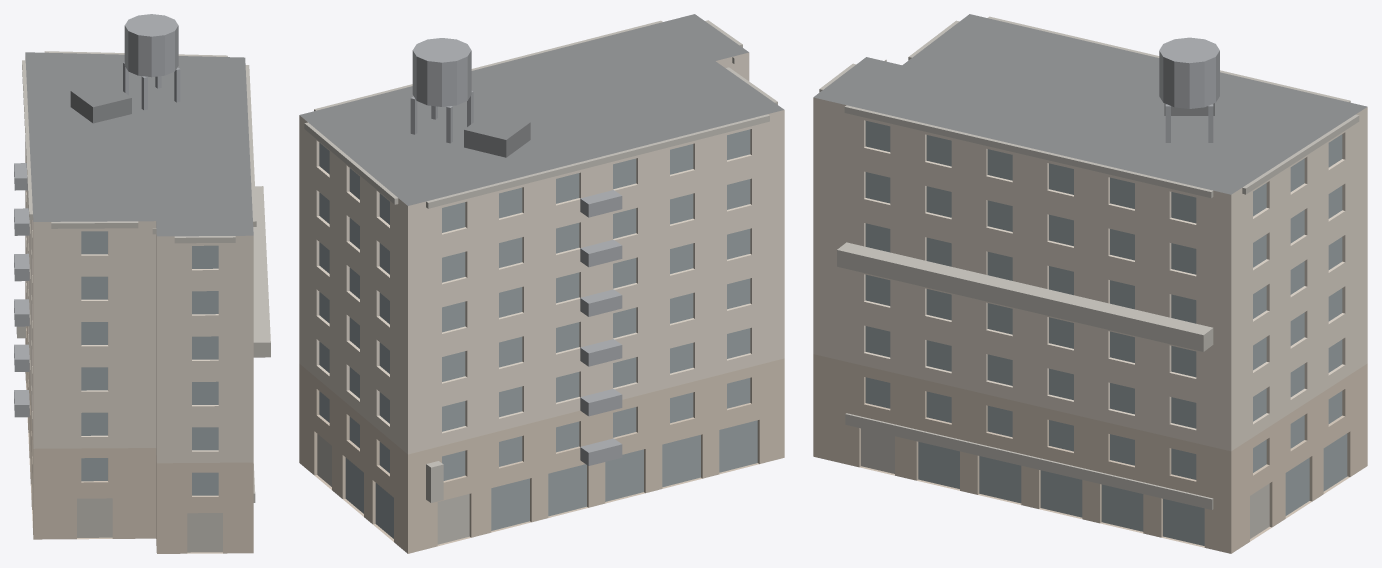
File: doitt-39969__lod_0.glb
The picture shows the model from 3 angles, left to right: view 1: azimuth 30°, elevation 25°; view 2: azimuth 150°, elevation 25°; view 3: azimuth 270°, elevation 25°; orthographic projection. The views are drawn at different scales.
Bounding box in the file's own units: 25.83 × 28.9 × 32.88.
